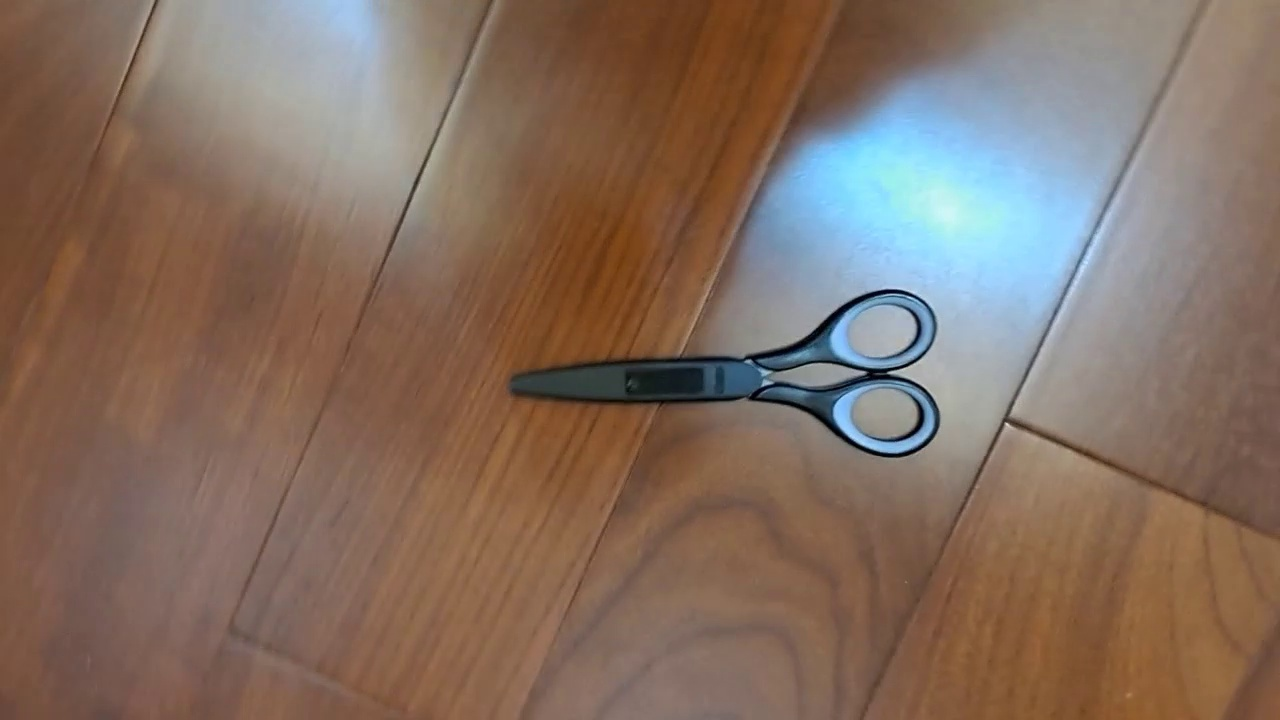scissors: (509, 289, 941, 458)
